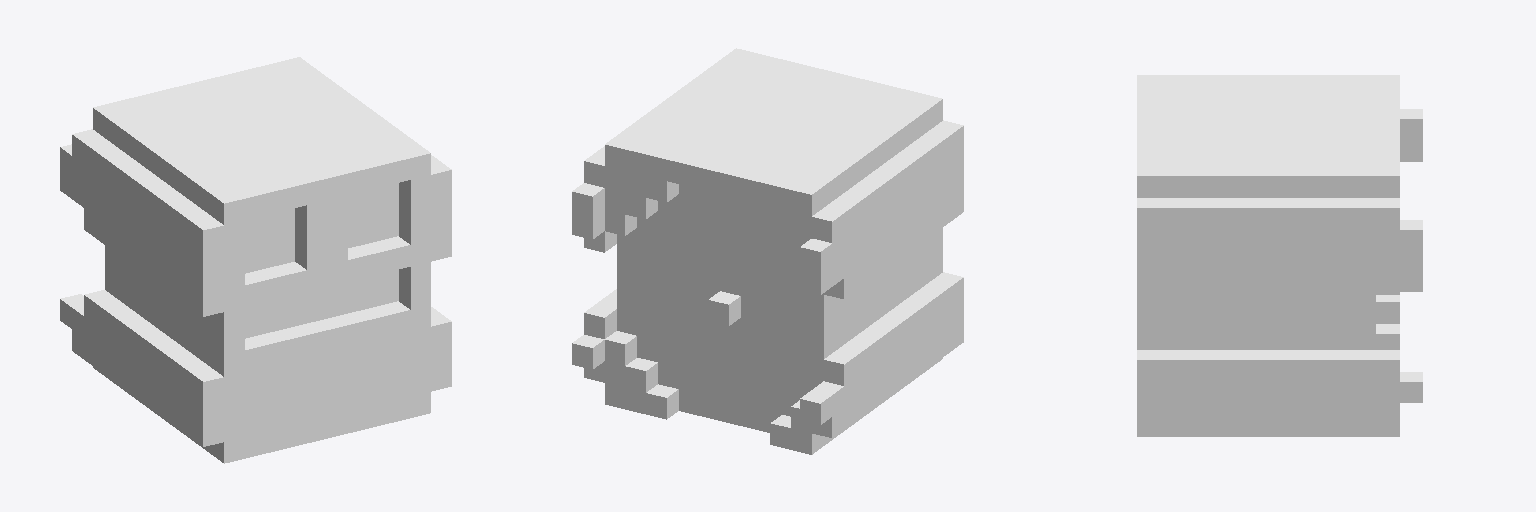
Rendered from creatureOne-01.obj.
The picture shows the model from 3 angles: view 1: azimuth 30°, elevation 25°; view 2: azimuth 150°, elevation 25°; view 3: azimuth 270°, elevation 25°; orthographic projection.
Bounding box in the file's own units: 12 × 12 × 12.